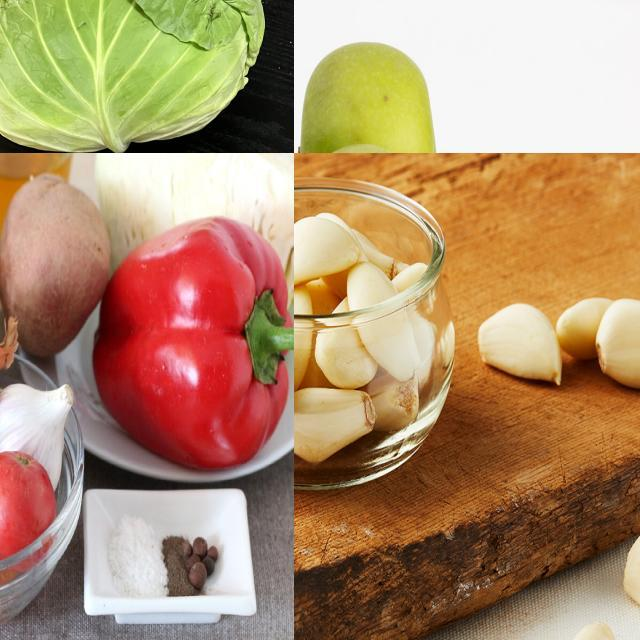bell_pepper: (97, 215, 295, 483), (84, 154, 295, 325)
cabbage: (1, 1, 270, 154)
garlic: (295, 196, 442, 461), (1, 370, 73, 495), (558, 292, 640, 389), (474, 305, 562, 389), (620, 518, 640, 623), (559, 622, 619, 640)
potato: (1, 169, 111, 368)
